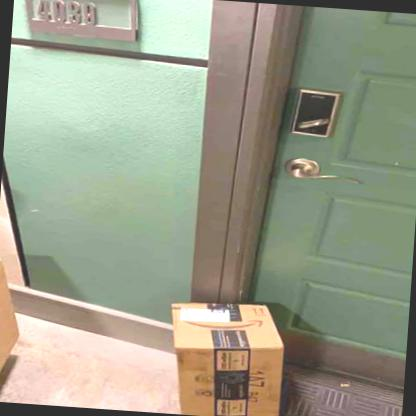box: (171, 302, 285, 416)
